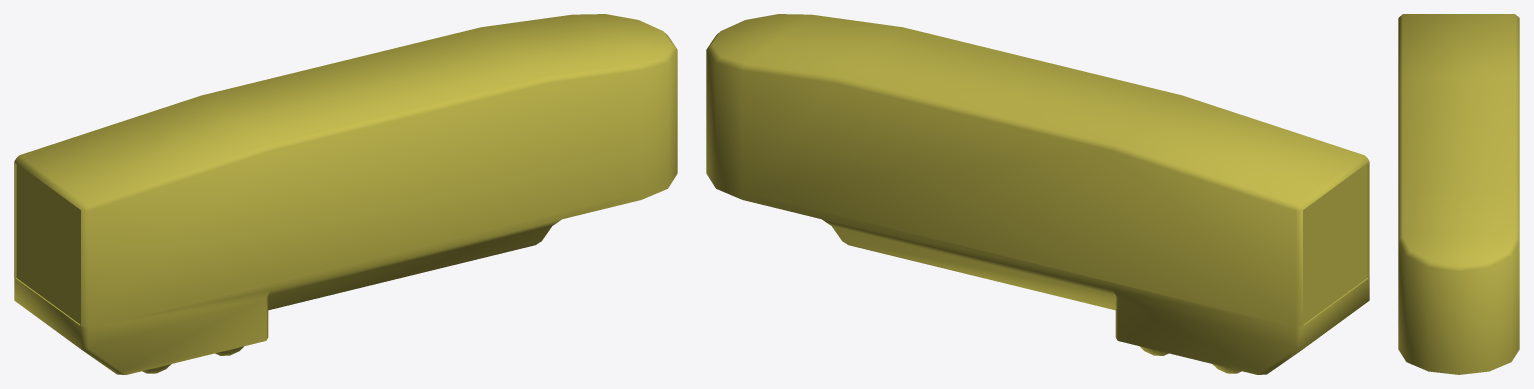
File: h_semi_trailer.fbx
3 renders of one model, left to right at view 1: azimuth 30°, elevation 25°; view 2: azimuth 150°, elevation 25°; view 3: azimuth 270°, elevation 25°, orthographic. The views are drawn at different scales.
Visible parts, largest first — view 1: L6 standard standard; view 2: L6 standard standard; view 3: L6 standard standard.
Part boxes in pixels (x1=…): L6 standard standard: x1=14, y1=14, x2=677, y2=374; L6 standard standard: x1=706, y1=14, x2=1369, y2=374; L6 standard standard: x1=1398, y1=14, x2=1519, y2=374.
Bounding box in the file's own units: 42182 × 13063 × 8500.
